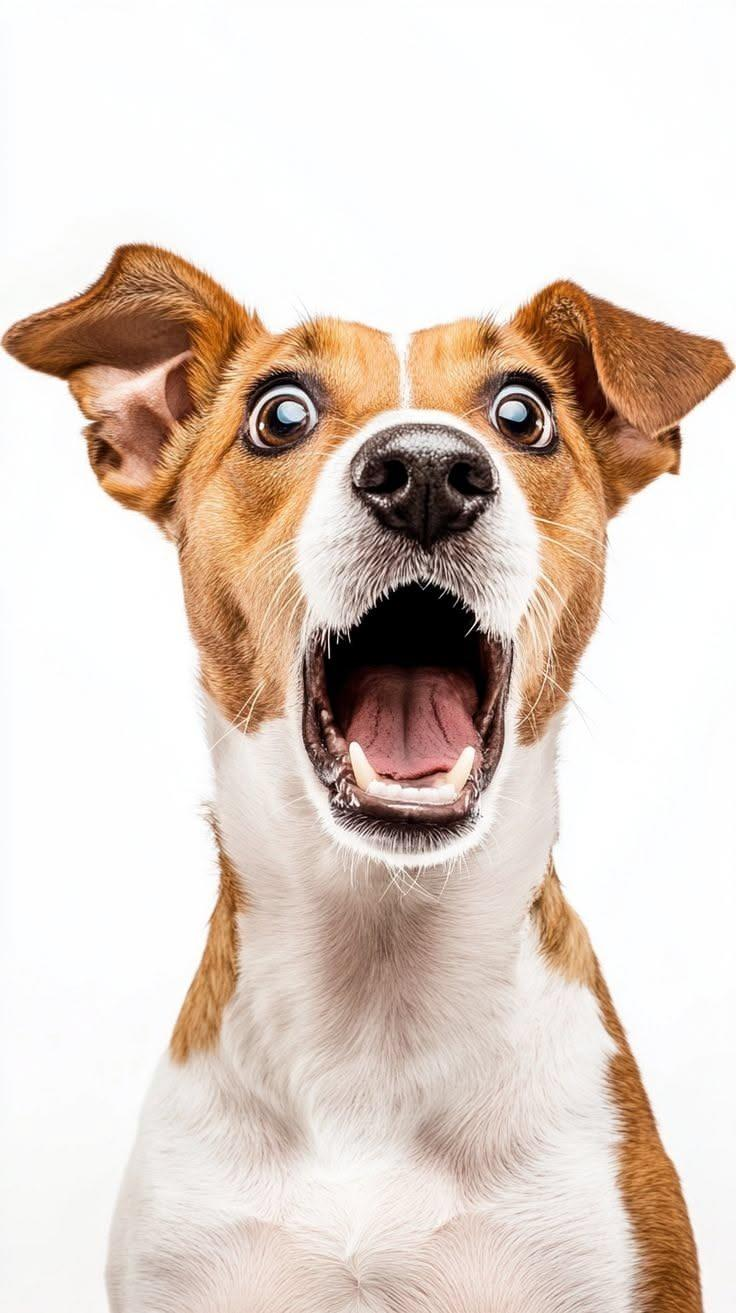adult_dog: (1, 243, 735, 1313)
